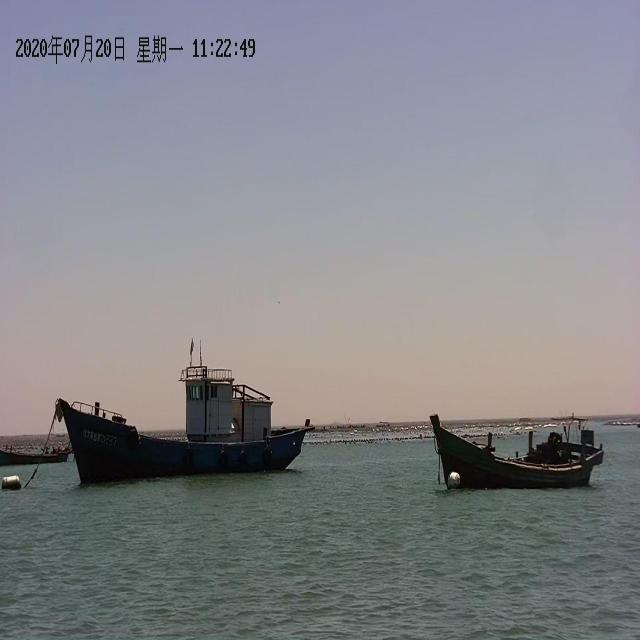CIV_Ship: (55, 359, 314, 482), (431, 398, 607, 500)
